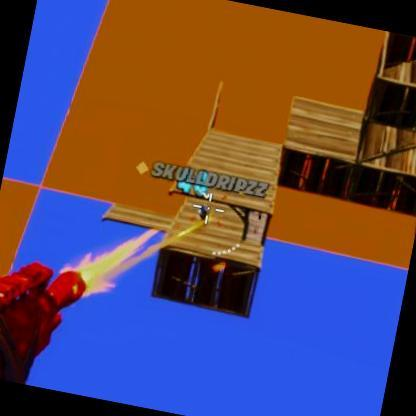person: (194, 202, 210, 223)
